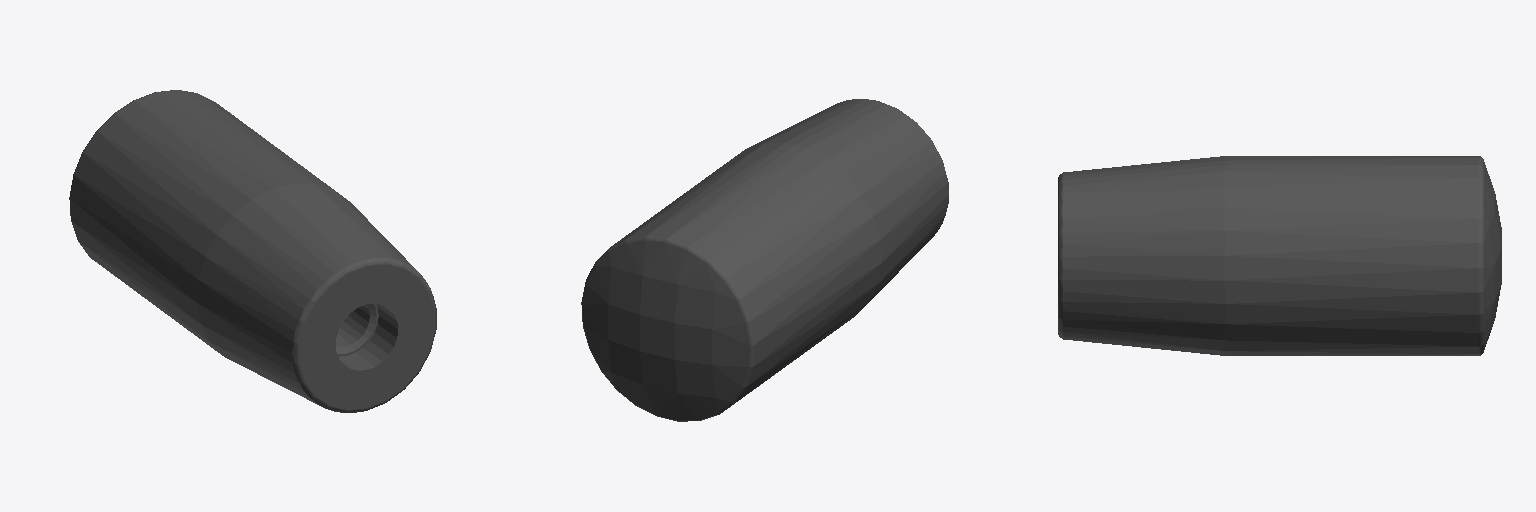
Rendered from ganter_gn_519-18-m6.obj.
The picture shows the model from 3 angles: view 1: azimuth 30°, elevation 25°; view 2: azimuth 150°, elevation 25°; view 3: azimuth 270°, elevation 25°; orthographic projection.
Parts seen in each view (by area): view 1: ganter_gn_519-18-m6_1; view 2: ganter_gn_519-18-m6_1; view 3: ganter_gn_519-18-m6_1.
Part boxes in pixels (x1,y1,x2,y2): ganter_gn_519-18-m6_1: (69,90,436,412); ganter_gn_519-18-m6_1: (581,99,948,421); ganter_gn_519-18-m6_1: (1058,156,1501,355).
Bounding box in the file's own units: 17.96 × 18 × 39.85.